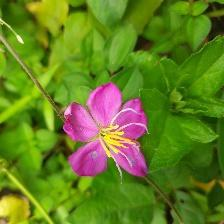malabar melastome: (62, 81, 152, 181)
